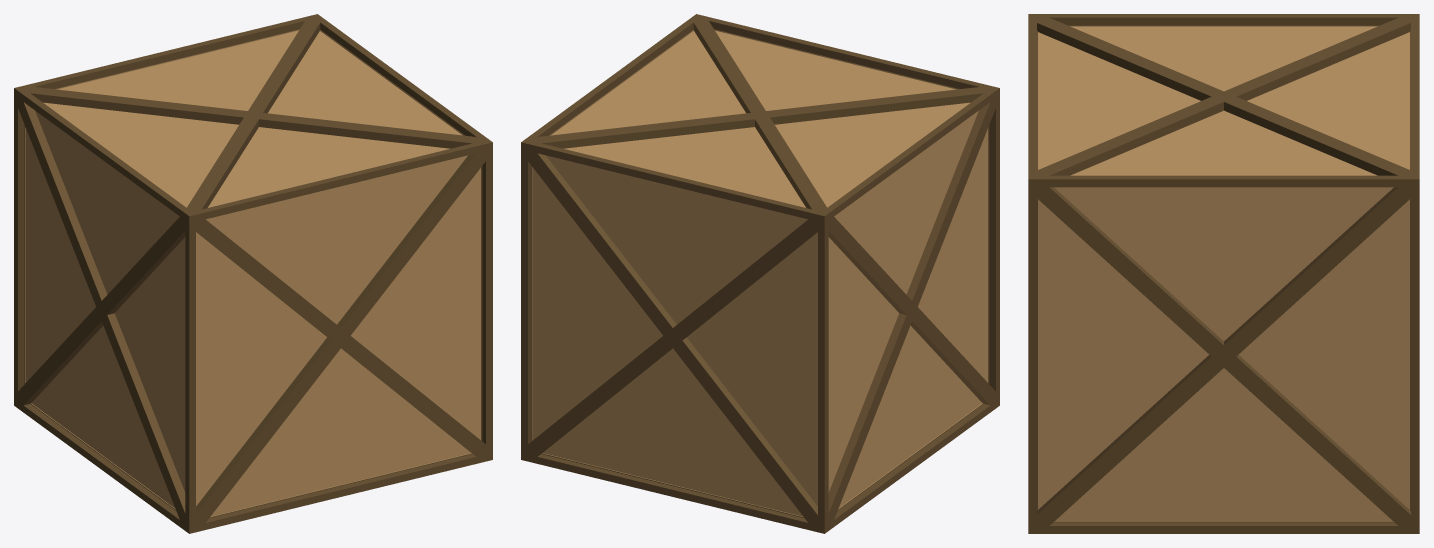
3 views of the same model, side by side, from view 1: azimuth 30°, elevation 25°; view 2: azimuth 150°, elevation 25°; view 3: azimuth 270°, elevation 25° (orthographic). The views are drawn at different scales.
Parts seen in each view (by area): view 1: Box1_004__1_, Box1__1_; view 2: Box1_004__1_, Box1__1_; view 3: Box1_004__1_, Box1__1_.
Boxes of the visible parts, <box> form: Box1_004__1_: <box>25,29,481,517</box>; Box1__1_: <box>14,14,492,533</box>; Box1_004__1_: <box>532,29,988,517</box>; Box1__1_: <box>521,14,999,533</box>; Box1_004__1_: <box>1038,26,1409,521</box>; Box1__1_: <box>1028,14,1419,533</box>.
Size of the model in its own units: 119 by 119 by 119.
